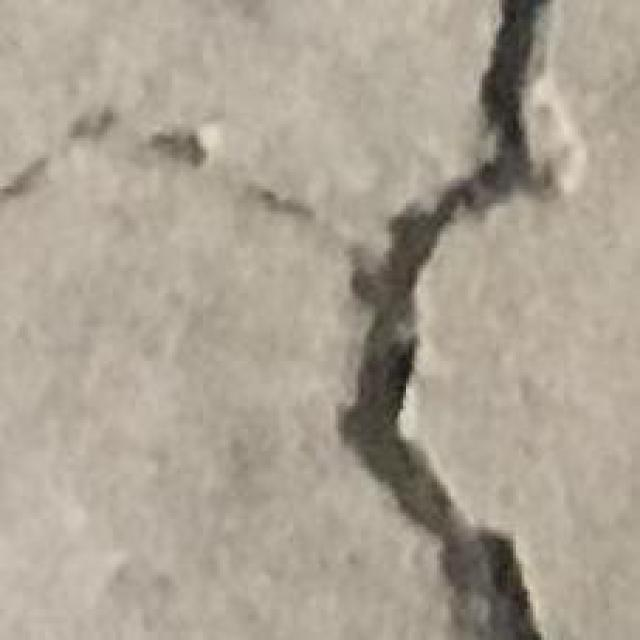Crack: (361, 0, 637, 640), (0, 52, 327, 275)
